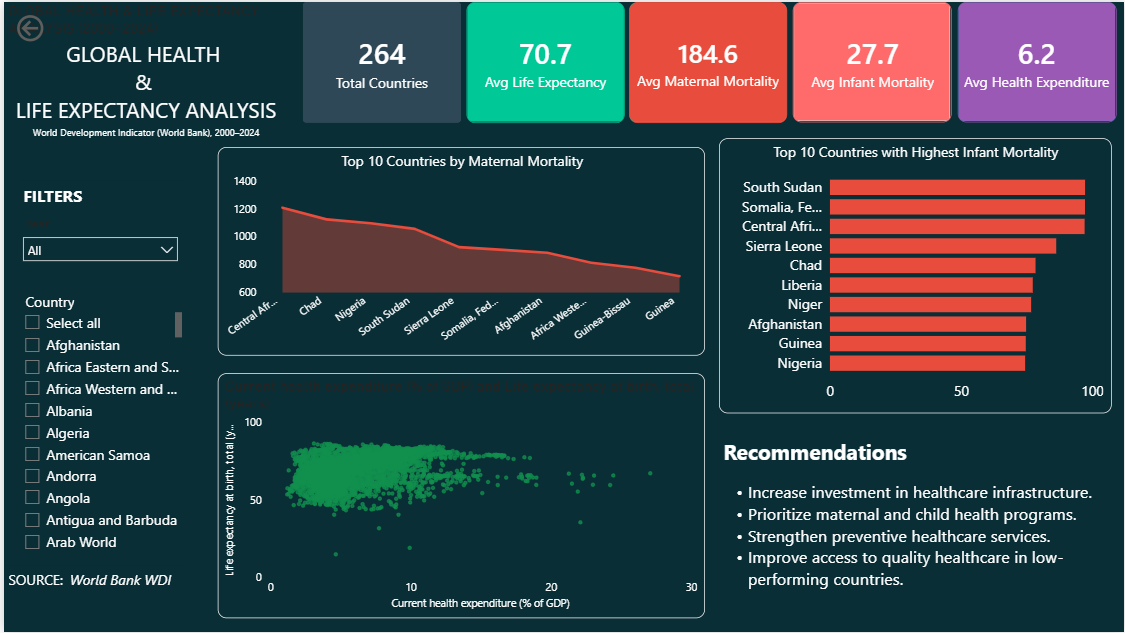

This screenshot's page, from the dashboard's own definition file:
{"tool":"powerbi","page":{"name":"Page 3","canvas":[1280,720],"ordinal":1},"visuals":[{"type":"textbox","box":[0,0,325,186],"z":0},{"type":"cardVisual","fields":{"Data":["WDICSV.Avg Infant Mortality"]},"box":[902,0,181.6,137.4],"z":1000},{"type":"cardVisual","fields":{"Data":["WDICSV.Avg Maternal Mortality"]},"box":[715,0,181,138],"z":2000},{"type":"cardVisual","fields":{"Data":["WDICSV.Avg Health Expenditure"]},"box":[1089.6,0,181.6,137.4],"z":3000},{"type":"cardVisual","fields":{"Data":["WDICSV.Avg Life Expectancy"]},"box":[528,0,181,138],"z":4000},{"type":"cardVisual","fields":{"Data":["Count(WDICSV.Country Name)"]},"box":[341,0,181,138],"z":5000},{"type":"areaChart","title":"Top 10 Countries by Maternal Mortality","fields":{"Y":["WDICSV.Avg Maternal Mortality"],"Category":["WDICSV.Country Name"]},"box":[244.3,165.7,557.1,238.6],"z":6000},{"type":"clusteredBarChart","title":"Top 10 Countries with Highest Infant Mortality","fields":{"Category":["WDICSV.Country Name"],"Y":["WDICSV.Avg Infant Mortality"]},"box":[817.1,155.7,448.6,314.3],"z":7000},{"type":"slicer","fields":{"Values":["WDICSV.Country Name"]},"box":[11.4,325.7,197.1,307.1],"z":8000},{"type":"slicer","fields":{"Values":["WDICSV.Year"]},"box":[11.4,240,197.1,85.7],"z":9000},{"type":"textbox","box":[17.1,204.3,191.4,45.7],"z":10000},{"type":"actionButton","box":[10,10,100,40],"z":11000},{"type":"scatterChart","fields":{"X":["Health Scatter Data.Current health expenditure (% of GDP)"],"Y":["Health Scatter Data.Life expectancy at birth, total (years)"]},"box":[244.3,424.3,557.1,280],"z":12000},{"type":"textbox","box":[817.1,492.9,454.3,211.4],"z":13000},{"type":"textbox","box":[0,644.3,208.6,34.3],"z":14000}]}

Visuals, with their boxes in screenshot pixels (x1, y1, x2, y2), scaled from the page's 1280x720 canvas onto the 1125x633 screenshot:
textbox: crop(0, 0, 286, 164)
cardVisual - WDICSV.Avg Infant Mortality: crop(793, 0, 952, 121)
cardVisual - WDICSV.Avg Maternal Mortality: crop(628, 0, 788, 121)
cardVisual - WDICSV.Avg Health Expenditure: crop(958, 0, 1117, 121)
cardVisual - WDICSV.Avg Life Expectancy: crop(464, 0, 623, 121)
cardVisual - Count(WDICSV.Country Name): crop(300, 0, 459, 121)
"Top 10 Countries by Maternal Mortality" areaChart: crop(215, 146, 704, 355)
"Top 10 Countries with Highest Infant Mortality" clusteredBarChart: crop(718, 137, 1112, 413)
slicer - WDICSV.Country Name: crop(10, 286, 183, 556)
slicer - WDICSV.Year: crop(10, 211, 183, 286)
textbox: crop(15, 180, 183, 220)
actionButton: crop(9, 9, 97, 44)
scatterChart - Health Scatter Data.Current health expenditure (% of GDP) x Health Scatter Data.Life expectancy at birth, total (years): crop(215, 373, 704, 619)
textbox: crop(718, 433, 1117, 619)
textbox: crop(0, 566, 183, 597)
